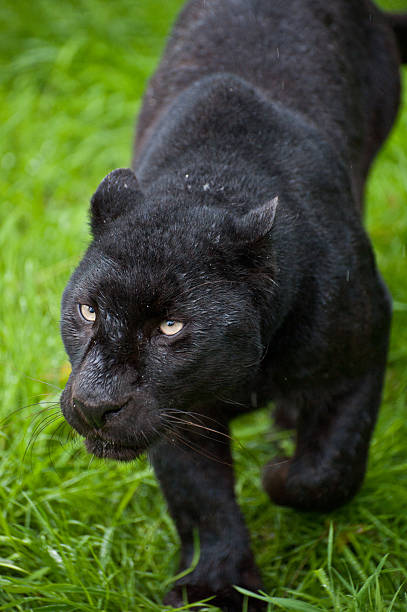panther: (34, 166, 308, 465)
